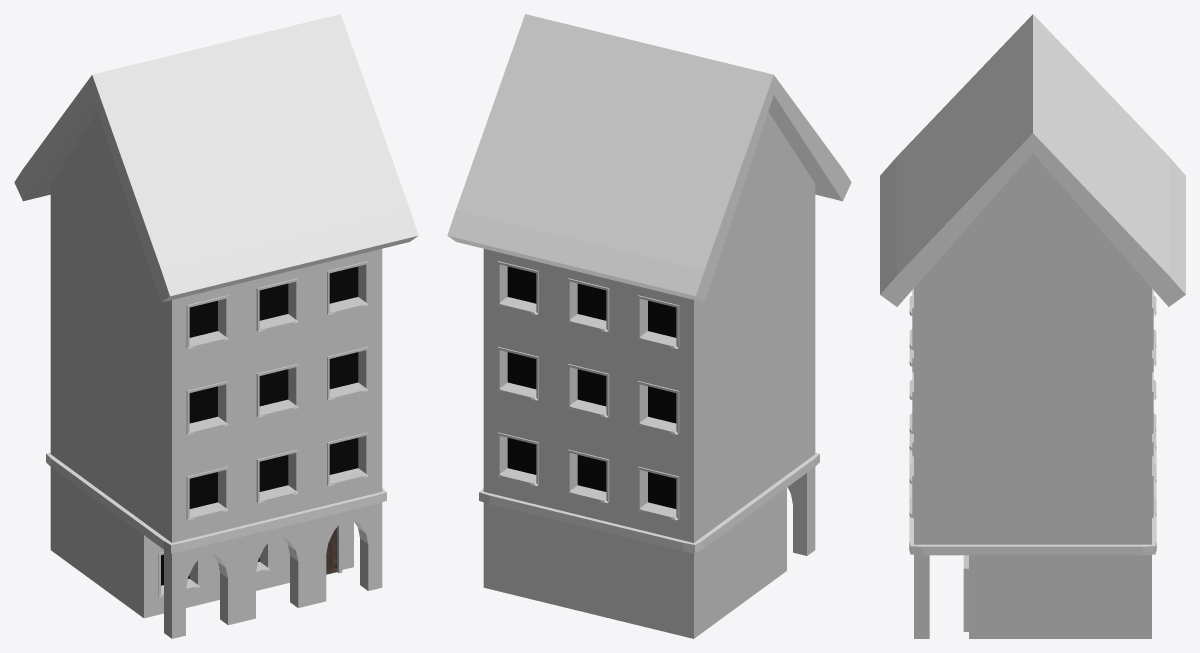
File: House1.fbx
3 views of the same model, side by side, from view 1: azimuth 30°, elevation 25°; view 2: azimuth 150°, elevation 25°; view 3: azimuth 270°, elevation 25° (orthographic).
Parts seen in each view (by area): view 1: House_1; view 2: House_1; view 3: House_1.
Part boxes in pixels (bbox=[...]): House_1: bbox=[14, 14, 418, 638]; House_1: bbox=[447, 14, 851, 638]; House_1: bbox=[880, 14, 1185, 638].
Size of the model in its own units: 355 by 716 by 385.
5 materials, 1 textured.
